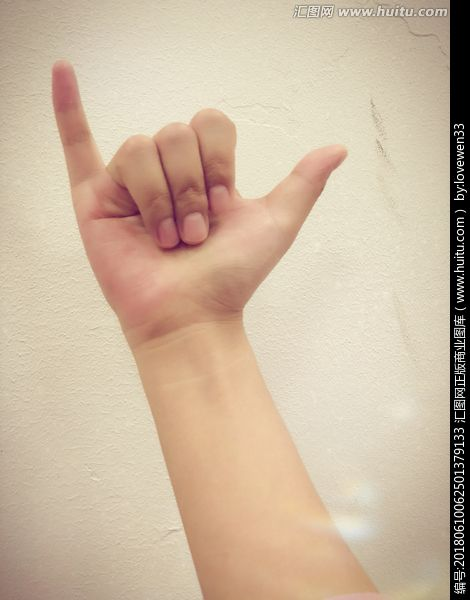clockwise: (44, 53, 354, 330)
